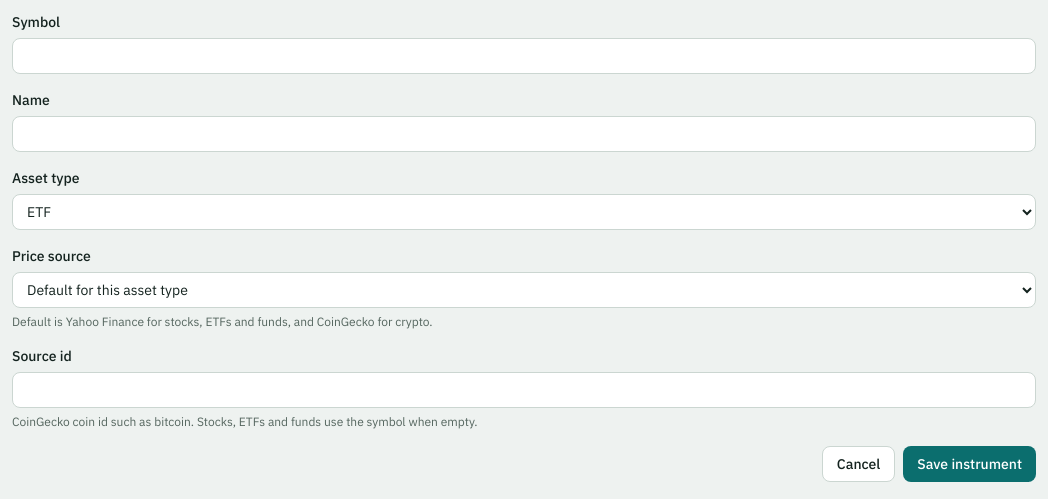
Test: InstrumentForm › requires a coin id for crypto priced by CoinGecko
Type "BTC" into the field labelled "Symbol" at point(524, 56), box x1=12 y1=38 x2=1036 y2=74
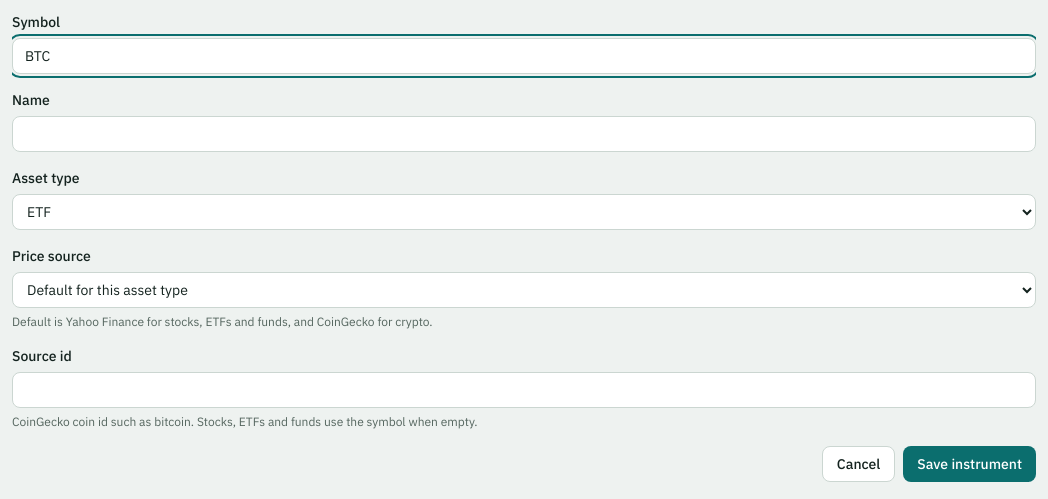
Select "Crypto" in the dropdown labelled "Asset type" at point(524, 212), box x1=12 y1=194 x2=1036 y2=230
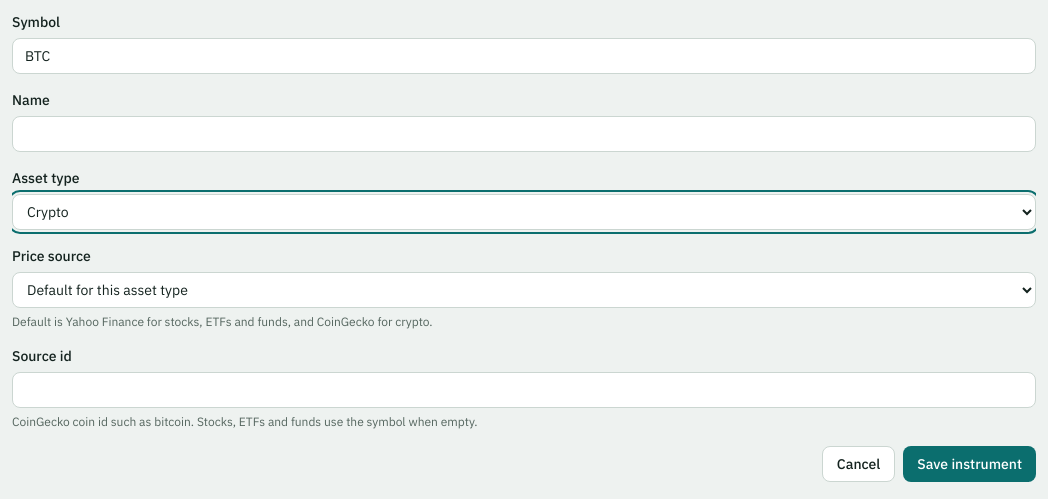
Click the button "Save instrument" at point(970, 464), box x1=903 y1=446 x2=1036 y2=482
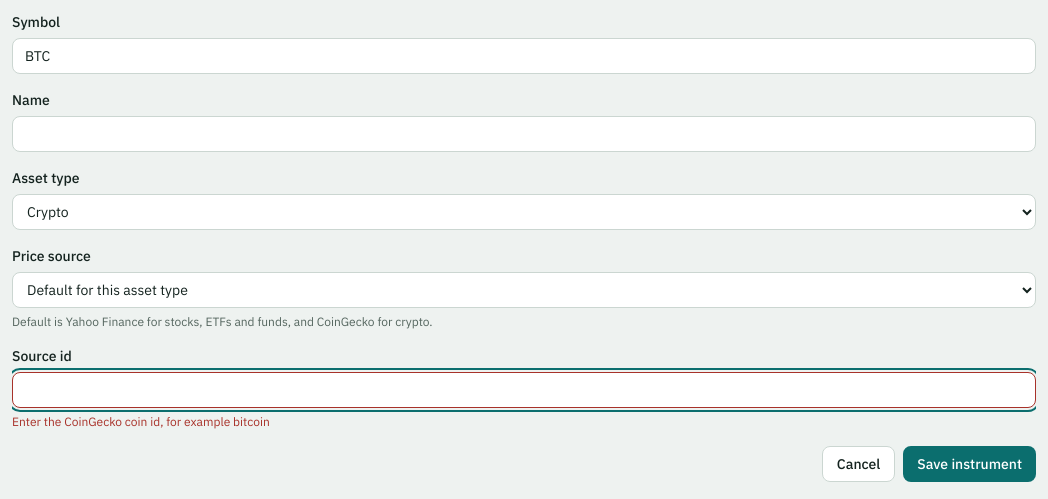
Expected: the text "Enter the CoinGecko coin id, for example bitcoin" is shown, x1=12 y1=414 x2=270 y2=429
